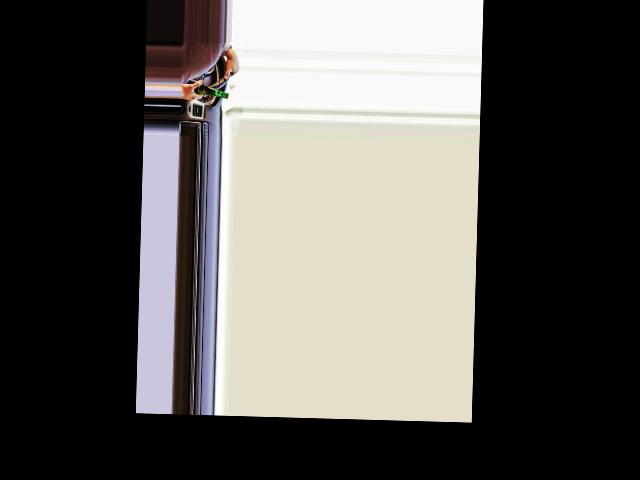beer: (184, 79, 229, 99)
